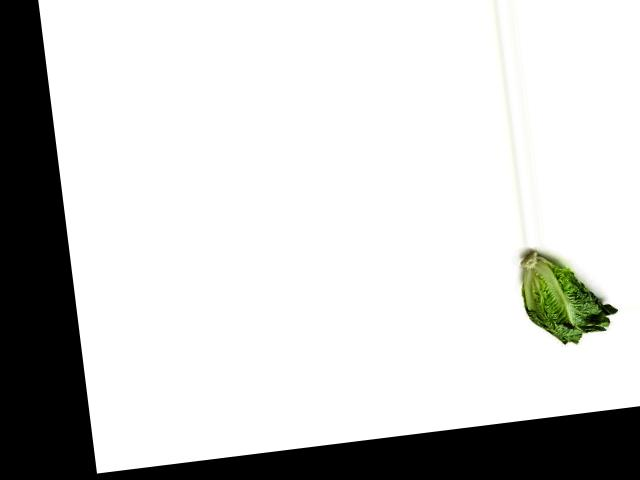lettuce: (514, 245, 620, 353)
